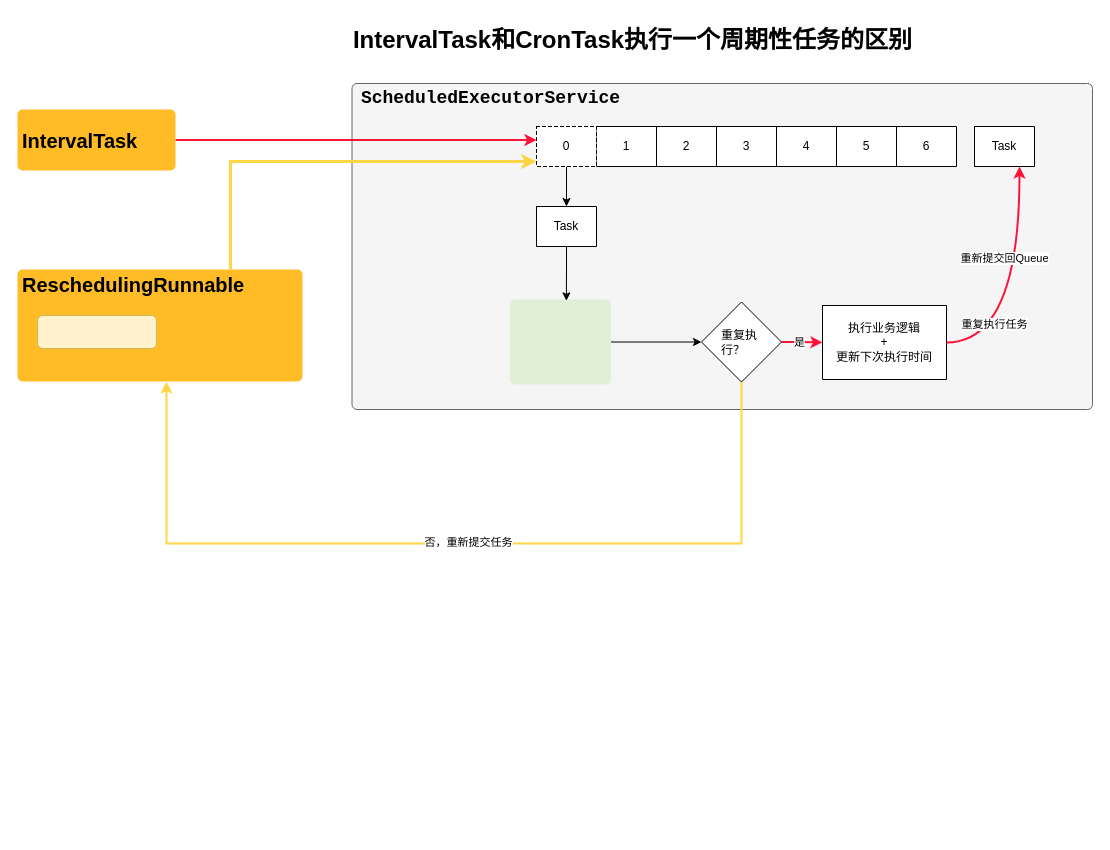
The diagram is 1110 pixels wide and 850 high, and some of its shapes have lost their labels. The shapes that lost their labels are listed below. From the top down, each one's box as (x1, y1, x2, y2) in pixels, then its label:
(37, 314, 156, 348): CronTask
(510, 299, 610, 384): 线程池
